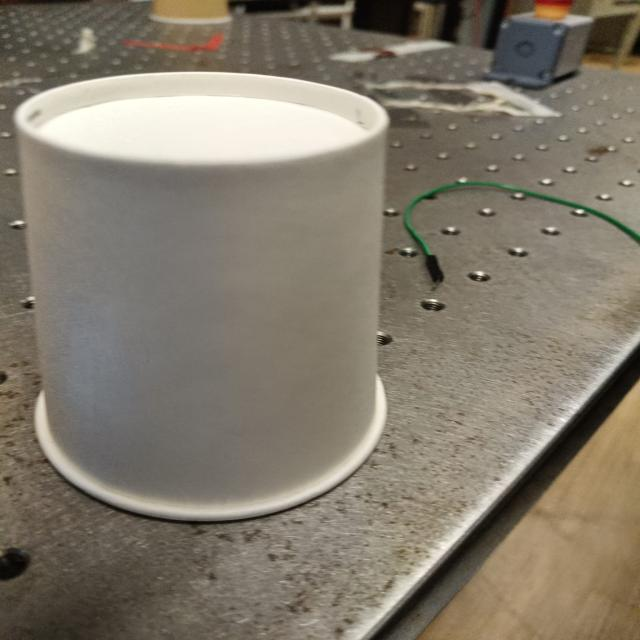Browncup: (148, 0, 232, 24)
Whitecup: (15, 72, 389, 521)
